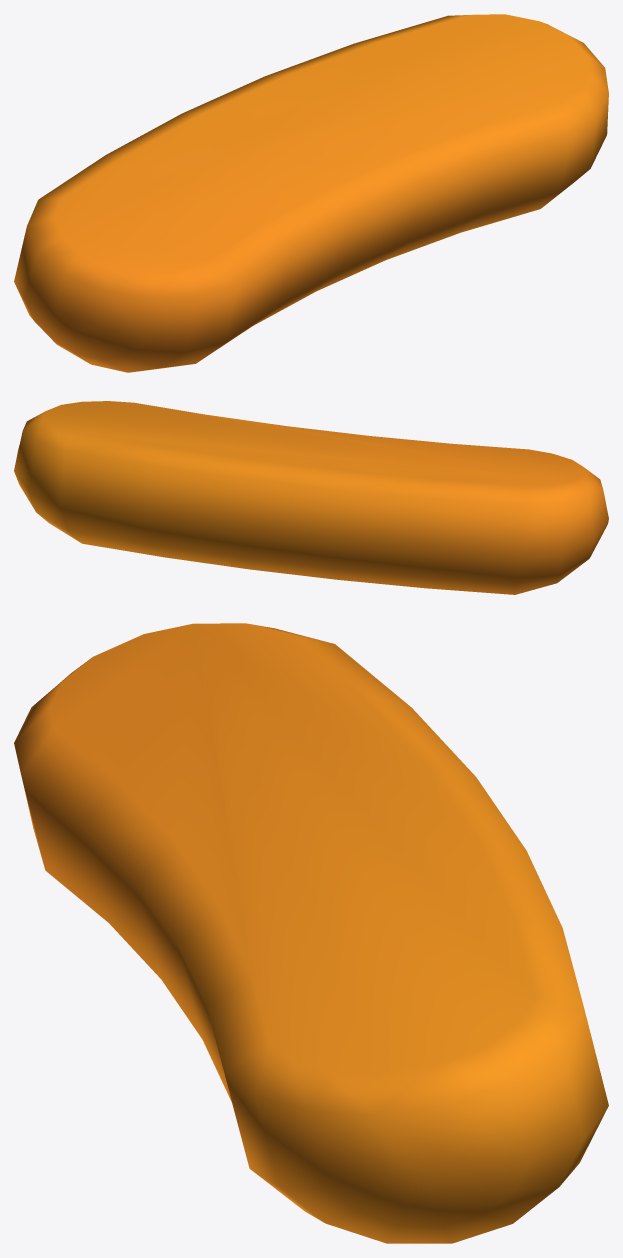
The model's file is Bread.fbx.
3 views of the same model, one above another, from view 1: azimuth 30°, elevation 25°; view 2: azimuth 150°, elevation 25°; view 3: azimuth 270°, elevation 25° (orthographic). The views are drawn at different scales.
Visible parts, largest first — view 1: Bread; view 2: Bread; view 3: Bread.
Boxes of the visible parts, left/top/right/bottom form: Bread: left=14, top=14, right=608, bottom=372; Bread: left=14, top=401, right=608, bottom=594; Bread: left=14, top=623, right=608, bottom=1243.
Size of the model in its own units: 0.4016 by 0.0974 by 0.2066.
